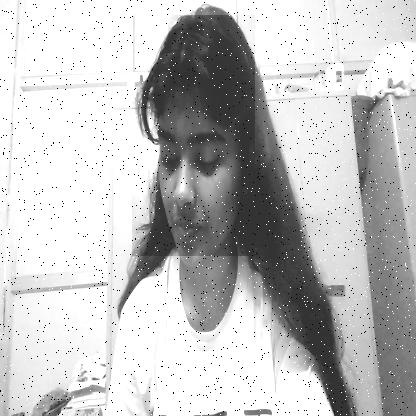Distracted: (132, 15, 255, 256)
